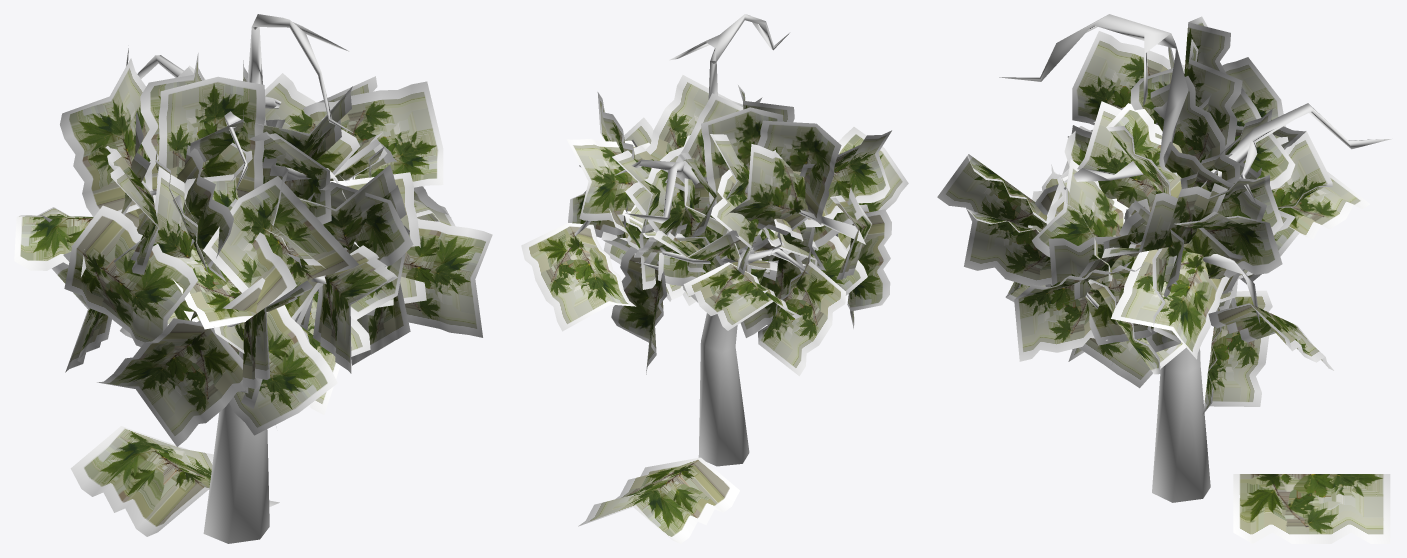
The model's file is Tree_3_HALF_DECIMATED.fbx.
3 views of the same model, side by side, from view 1: azimuth 30°, elevation 25°; view 2: azimuth 150°, elevation 25°; view 3: azimuth 270°, elevation 25° (orthographic). The views are drawn at different scales.
Parts seen in each view (by area): view 1: Tree, Tree|Leaf|Dupli|14, Tree|Leaf|Dupli|60, Leaf, Tree|Leaf|Dupli|36, Tree|Leaf|Dupli|6, Tree|Leaf|Dupli|65, Tree|Leaf|Dupli|19, Tree|Leaf|Dupli|53, Tree|Leaf|Dupli|31, Tree|Leaf|Dupli|61, Tree|Leaf|Dupli|35 (+26 smaller); view 2: Tree, Tree|Leaf|Dupli|21, Leaf, Tree|Leaf|Dupli|43, Tree|Leaf|Dupli|31, Tree|Leaf|Dupli|13, Tree|Leaf|Dupli|30, Tree|Leaf|Dupli|70, Tree|Leaf|Dupli|32, Tree|Leaf|Dupli|44, Tree|Leaf|Dupli|8, Tree|Leaf|Dupli|16 (+23 smaller); view 3: Tree, Leaf, Tree|Leaf|Dupli|20, Tree|Leaf|Dupli|65, Tree|Leaf|Dupli|32, Tree|Leaf|Dupli|44, Tree|Leaf|Dupli|35, Tree|Leaf|Dupli|54, Tree|Leaf|Dupli|59, Tree|Leaf|Dupli|19, Tree|Leaf|Dupli|17, Tree|Leaf|Dupli|2 (+24 smaller).
Boxes of the visible parts, box(x1,y1,x2,y2) form: Tree: box(41, 14, 353, 543); Tree|Leaf|Dupli|14: box(64, 205, 197, 346); Tree|Leaf|Dupli|60: box(97, 318, 247, 446); Leaf: box(70, 426, 279, 536); Tree|Leaf|Dupli|36: box(203, 176, 358, 319); Tree|Leaf|Dupli|6: box(157, 76, 265, 197); Tree|Leaf|Dupli|65: box(365, 218, 492, 337); Tree|Leaf|Dupli|19: box(303, 81, 443, 187); Tree|Leaf|Dupli|53: box(197, 278, 337, 435); Tree|Leaf|Dupli|31: box(60, 58, 150, 217); Tree|Leaf|Dupli|61: box(172, 198, 296, 329); Tree|Leaf|Dupli|35: box(313, 245, 397, 373); Tree: box(574, 14, 865, 466); Tree|Leaf|Dupli|21: box(521, 223, 635, 331); Leaf: box(578, 457, 739, 543); Tree|Leaf|Dupli|43: box(758, 249, 845, 376); Tree|Leaf|Dupli|31: box(745, 120, 841, 224); Tree|Leaf|Dupli|13: box(727, 144, 808, 235); Tree|Leaf|Dupli|30: box(567, 138, 637, 221); Tree|Leaf|Dupli|70: box(683, 262, 801, 330); Tree|Leaf|Dupli|32: box(799, 130, 891, 227); Tree|Leaf|Dupli|44: box(611, 246, 667, 374); Tree|Leaf|Dupli|8: box(701, 107, 783, 206); Tree|Leaf|Dupli|16: box(645, 75, 743, 160); Tree: box(999, 14, 1391, 502); Leaf: box(1233, 474, 1390, 543); Tree|Leaf|Dupli|20: box(1111, 249, 1229, 359); Tree|Leaf|Dupli|65: box(1014, 261, 1131, 361); Tree|Leaf|Dupli|32: box(1072, 31, 1184, 124); Tree|Leaf|Dupli|44: box(1202, 290, 1272, 414); Tree|Leaf|Dupli|35: box(964, 209, 1052, 286); Tree|Leaf|Dupli|54: box(937, 154, 1047, 228); Tree|Leaf|Dupli|59: box(1031, 159, 1122, 257); Tree|Leaf|Dupli|19: box(1102, 183, 1227, 257); Tree|Leaf|Dupli|17: box(1064, 101, 1181, 207); Tree|Leaf|Dupli|2: box(1150, 76, 1239, 183).
Bounding box in the file's own units: 514 × 732 × 600.
